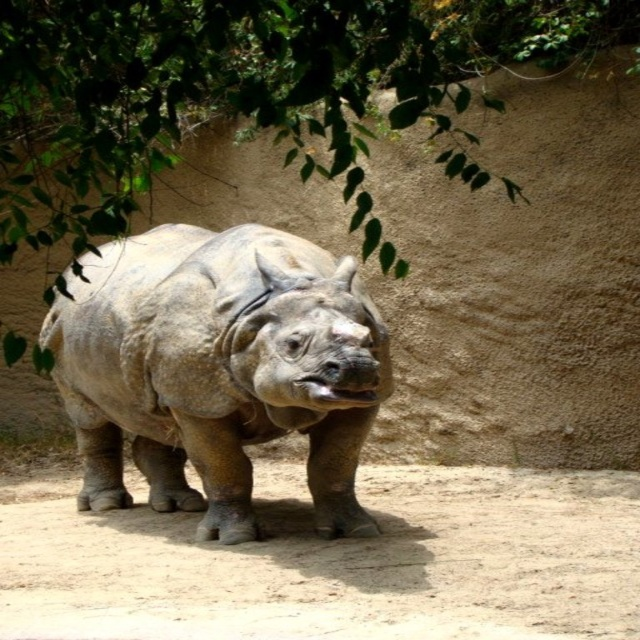Rhinoceros: (35, 219, 405, 547)
